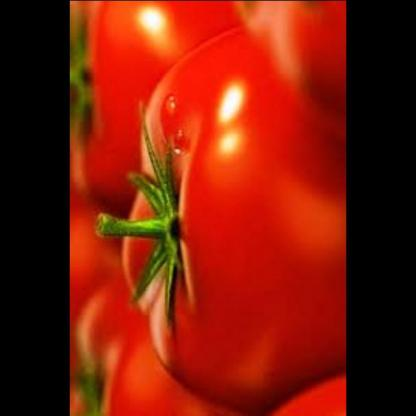tomato: (69, 3, 346, 416)
